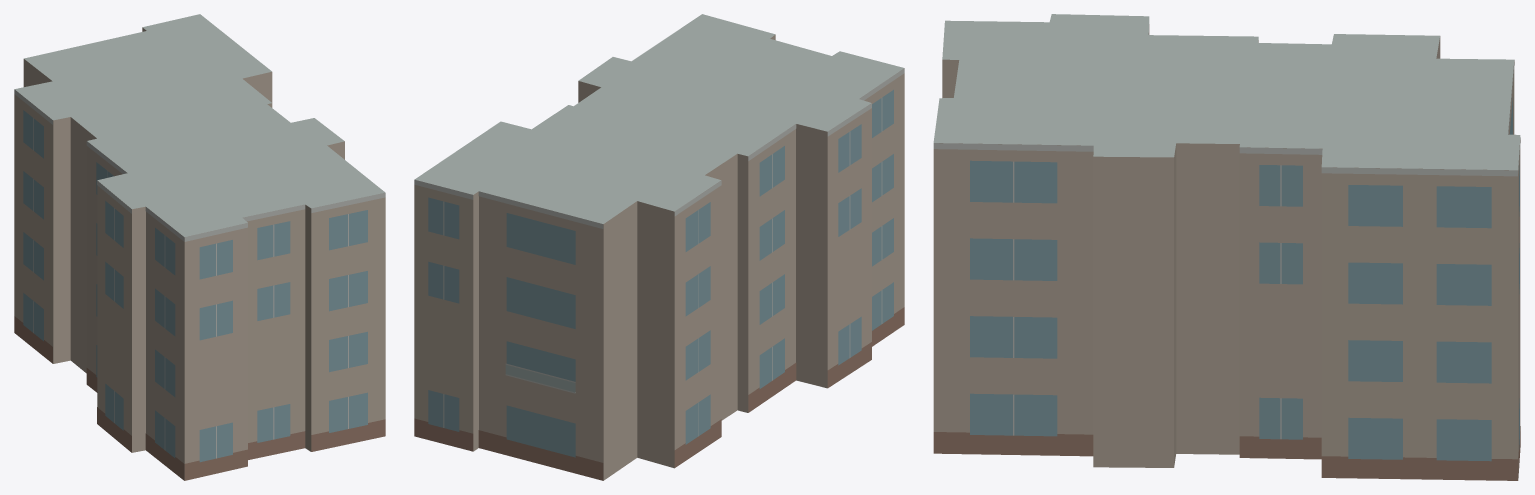
Rendered from survey-upis-32527453.glb.
3 renders of one model, left to right at view 1: azimuth 30°, elevation 25°; view 2: azimuth 150°, elevation 25°; view 3: azimuth 270°, elevation 25°, orthographic. The views are drawn at different scales.
Parts seen in each view (by area): view 1: survey-upis-32527453.tmp; view 2: survey-upis-32527453.tmp; view 3: survey-upis-32527453.tmp.
Boxes of the visible parts, x1,y1,x2,y2 form: survey-upis-32527453.tmp: (14, 14, 385, 480); survey-upis-32527453.tmp: (414, 14, 904, 480); survey-upis-32527453.tmp: (933, 14, 1520, 480).
Size of the model in its own units: 13.39 by 12.4 by 21.25.
